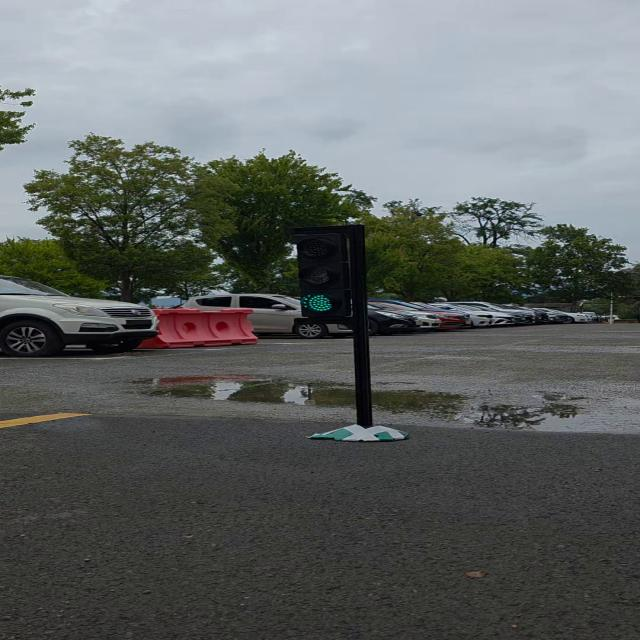green: (295, 229, 361, 319)
